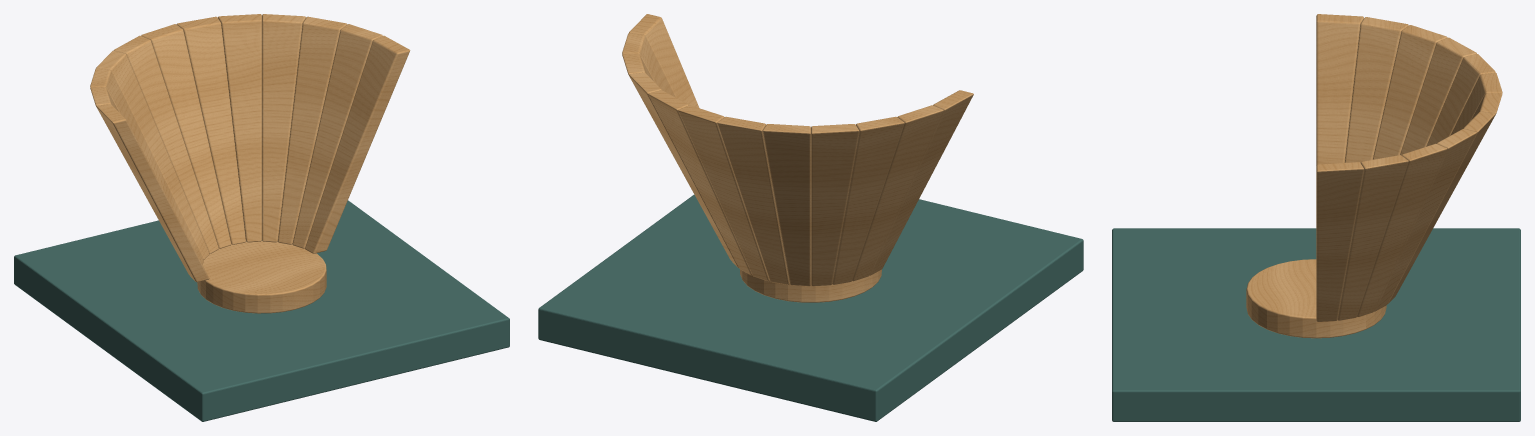
The model's file is launcherBase.glb.
3 views of the same model, side by side, from view 1: azimuth 30°, elevation 25°; view 2: azimuth 150°, elevation 25°; view 3: azimuth 270°, elevation 25° (orthographic). The views are drawn at different scales.
Visible parts, largest first — view 1: launcherBase; view 2: launcherBase; view 3: launcherBase.
Part boxes in pixels (x1,y1,x2,y2): launcherBase: (14, 14, 509, 421); launcherBase: (538, 14, 1083, 421); launcherBase: (1112, 14, 1520, 421).
Bounding box in the file's own units: 0.066 × 0.047 × 0.07.
Materials: 2 (1 with a texture image).
